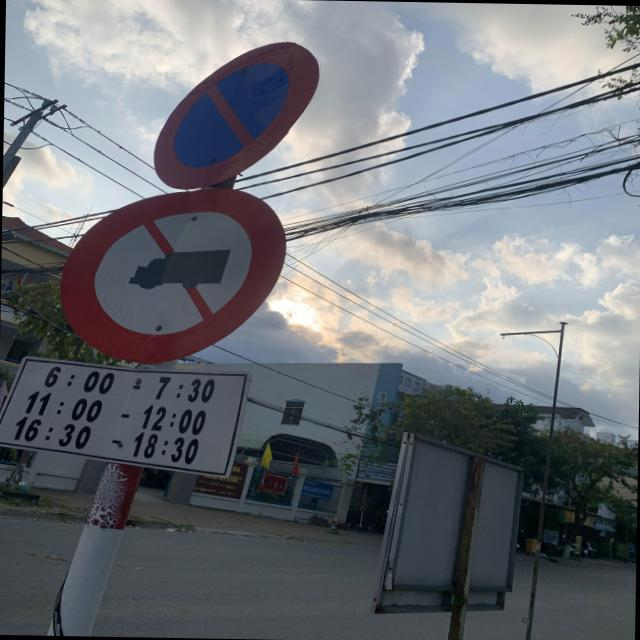Cam_Dau_Xe: (150, 37, 320, 192)
Cam_Xe_Tai: (57, 185, 288, 364)
